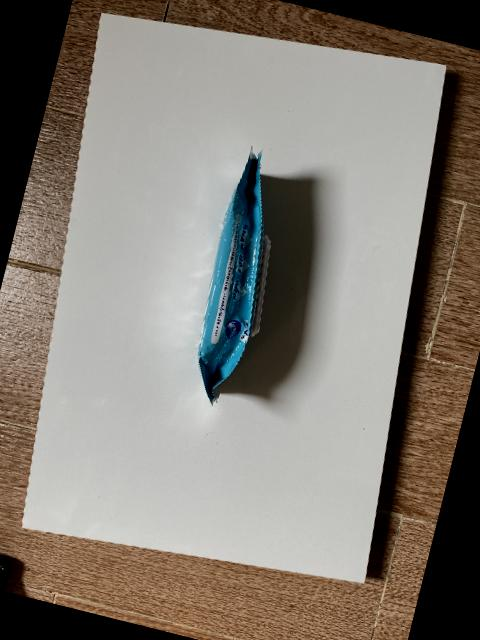Let-green_alcohol_wipes: (197, 146, 271, 405)
